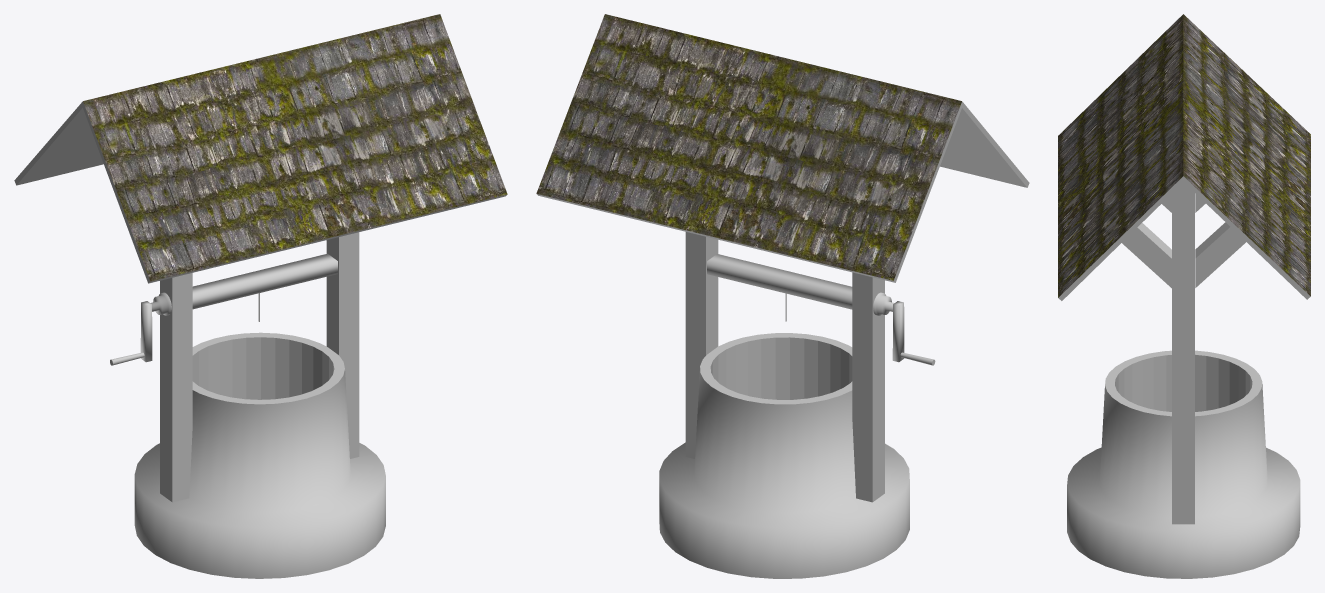
File: Warter well.FBX
3 views of the same model, side by side, from view 1: azimuth 30°, elevation 25°; view 2: azimuth 150°, elevation 25°; view 3: azimuth 270°, elevation 25° (orthographic). The views are drawn at different scales.
Visible parts, largest first — view 1: Plane02; view 2: Plane02; view 3: Plane02.
Boxes of the visible parts, <box> form: Plane02: <box>14,14,507,578</box>; Plane02: <box>536,14,1029,578</box>; Plane02: <box>1058,14,1310,578</box>.
Size of the model in its own units: 158 by 197 by 104.
